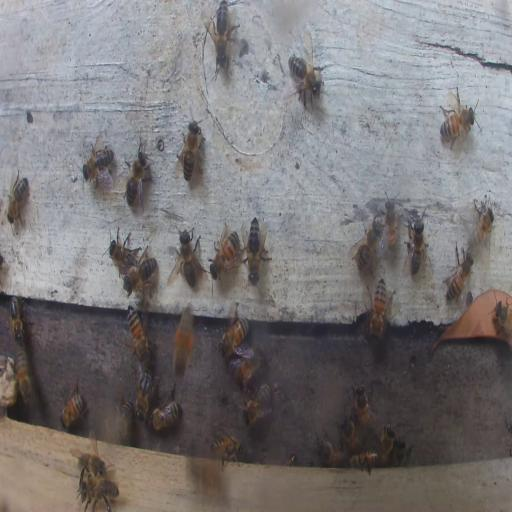bee: (286, 41, 326, 108), (207, 1, 238, 73), (173, 224, 204, 287), (172, 304, 196, 382), (80, 135, 115, 188), (176, 116, 204, 182), (244, 214, 270, 282), (350, 216, 380, 274), (210, 226, 242, 279), (124, 144, 150, 209), (445, 244, 473, 302), (404, 210, 428, 276), (438, 102, 476, 141), (106, 227, 139, 271), (80, 474, 118, 512), (6, 170, 30, 230), (128, 307, 152, 364), (60, 377, 86, 429), (243, 382, 272, 428), (369, 274, 388, 343), (220, 314, 248, 359), (210, 432, 244, 468), (149, 393, 181, 431), (126, 255, 157, 293), (353, 382, 375, 430), (470, 201, 494, 245), (233, 351, 263, 385), (136, 366, 154, 421), (315, 436, 346, 466), (16, 349, 31, 406), (384, 194, 398, 254), (491, 301, 511, 340), (378, 423, 396, 461), (78, 452, 105, 477), (340, 414, 358, 451), (349, 450, 380, 471), (11, 295, 23, 342), (393, 440, 413, 465), (120, 400, 132, 440), (282, 452, 296, 466)
